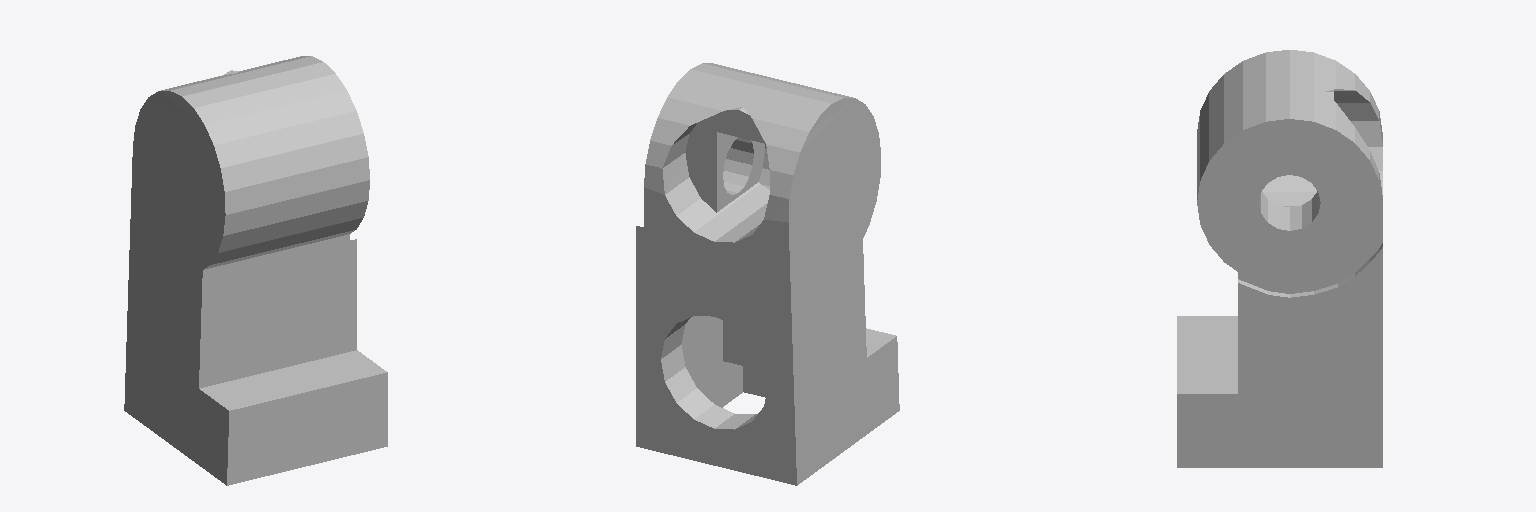
The model's file is right_leg.obj.
3 views of the same model, side by side, from view 1: azimuth 30°, elevation 25°; view 2: azimuth 150°, elevation 25°; view 3: azimuth 270°, elevation 25° (orthographic).
Parts seen in each view (by area): view 1: Part.1; view 2: Part.1; view 3: Part.1.
Part boxes in pixels (x1,y1,x2,y2): Part.1: (124,56,387,485); Part.1: (636,63,899,485); Part.1: (1177,50,1382,467).
Size of the model in its own units: 7.2 by 14.78 by 7.96.